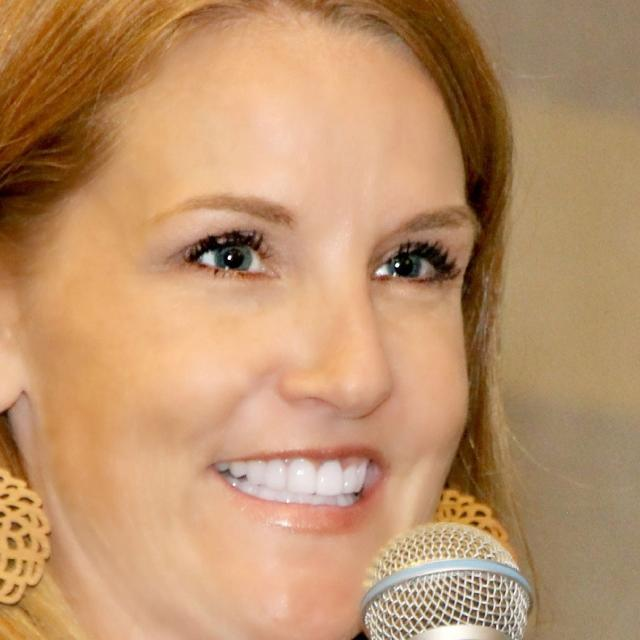Normal: (19, 5, 476, 639)
